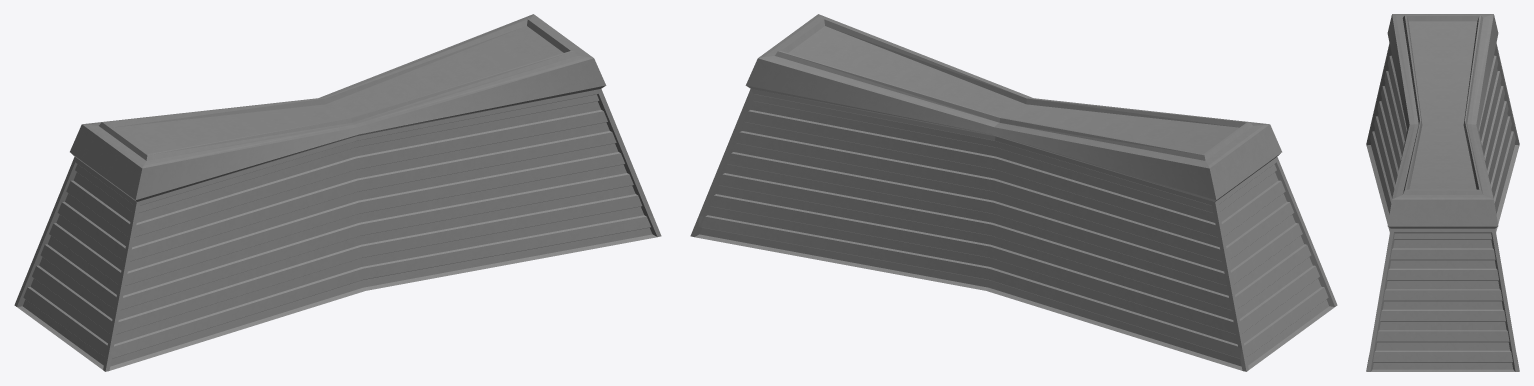
File: bldg_bOw_000.FBX
3 renders of one model, left to right at view 1: azimuth 30°, elevation 25°; view 2: azimuth 150°, elevation 25°; view 3: azimuth 270°, elevation 25°, orthographic. The views are drawn at different scales.
Parts seen in each view (by area): view 1: bldg_bow_000; view 2: bldg_bow_000; view 3: bldg_bow_000.
Part boxes in pixels (<box>): bldg_bow_000: <box>14,14,661,371</box>; bldg_bow_000: <box>690,14,1337,371</box>; bldg_bow_000: <box>1366,14,1519,371</box>.
Bounding box in the file's own units: 168 × 53.04 × 47.55.
Materials: 1 (1 with a texture image).
